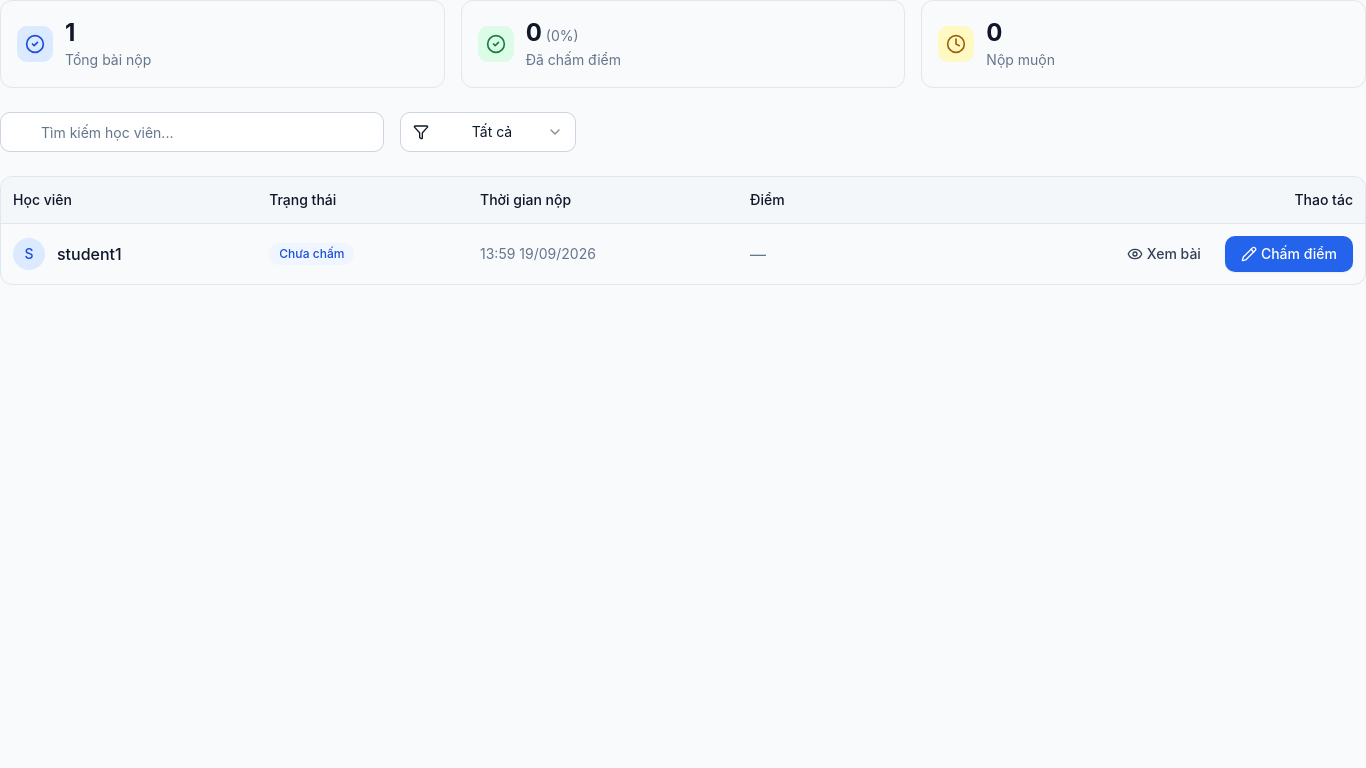
it: SubmissionGradingPanel › 'Xem bài' mở hộp thoại có bài làm của học viên
What coordinates should you click on to do the following:
click the button "Xem bài"
I would click on:
 (1164, 254)
Its box is [1111,236,1217,272].
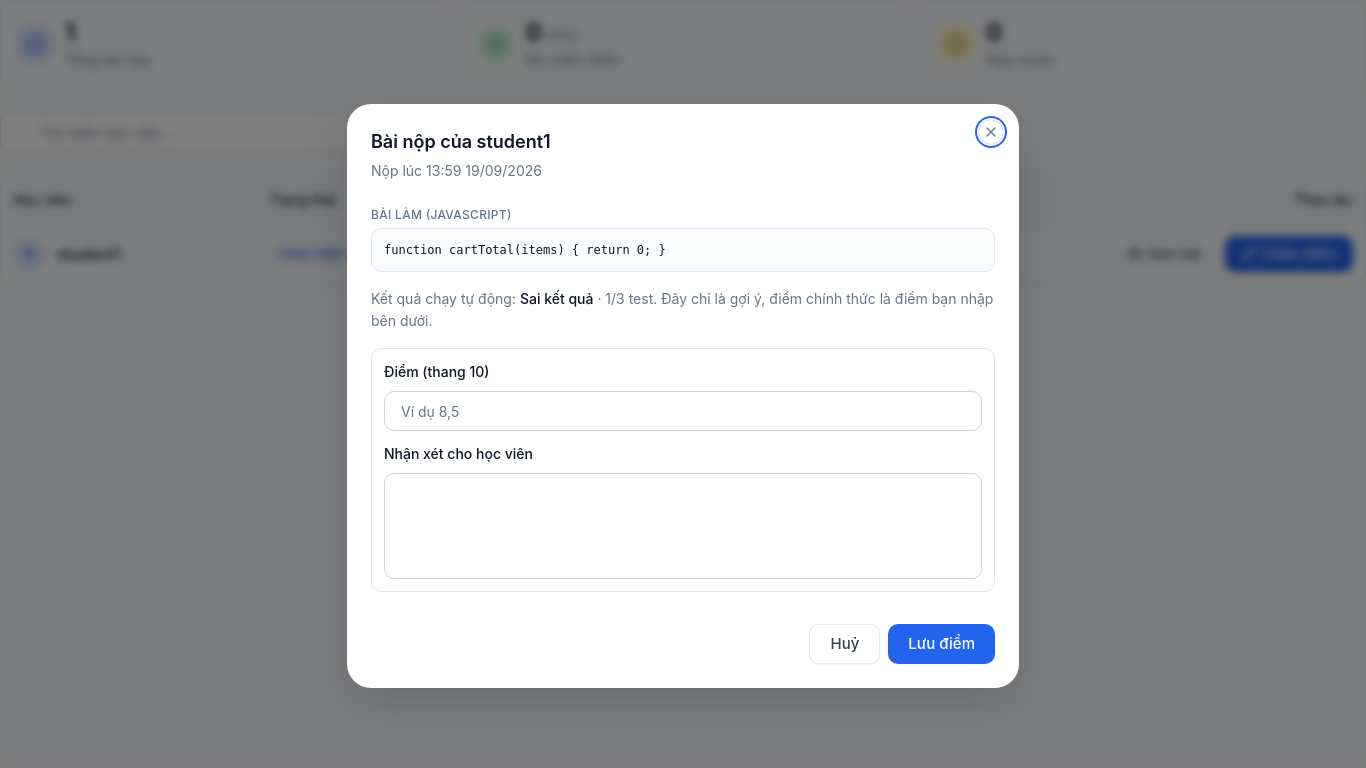
Result: the text with test id "submission-code" shows "function cartTotal" at [384,243,666,257]
